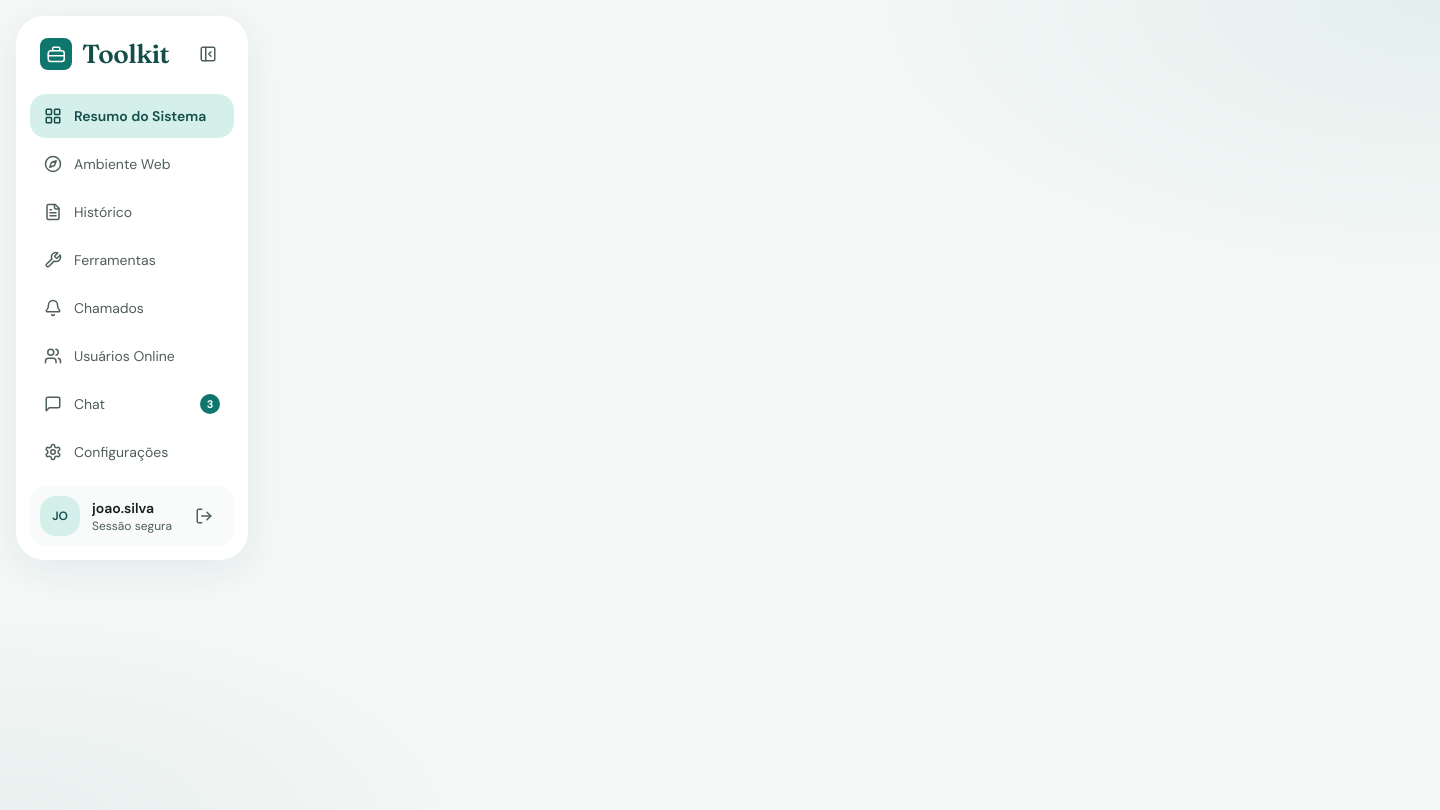
Sidebar collapse › hides labels, keeps accessible names and persists the choice
The image size is (1440, 810).
Later steps or results of the test are not shown.
Expected: the text "Toolkit" is shown, top-left (82, 41), bottom-right (182, 67)
Click the button named "Recolher menu" at (208, 54), box top-left (192, 38), bottom-right (224, 70)
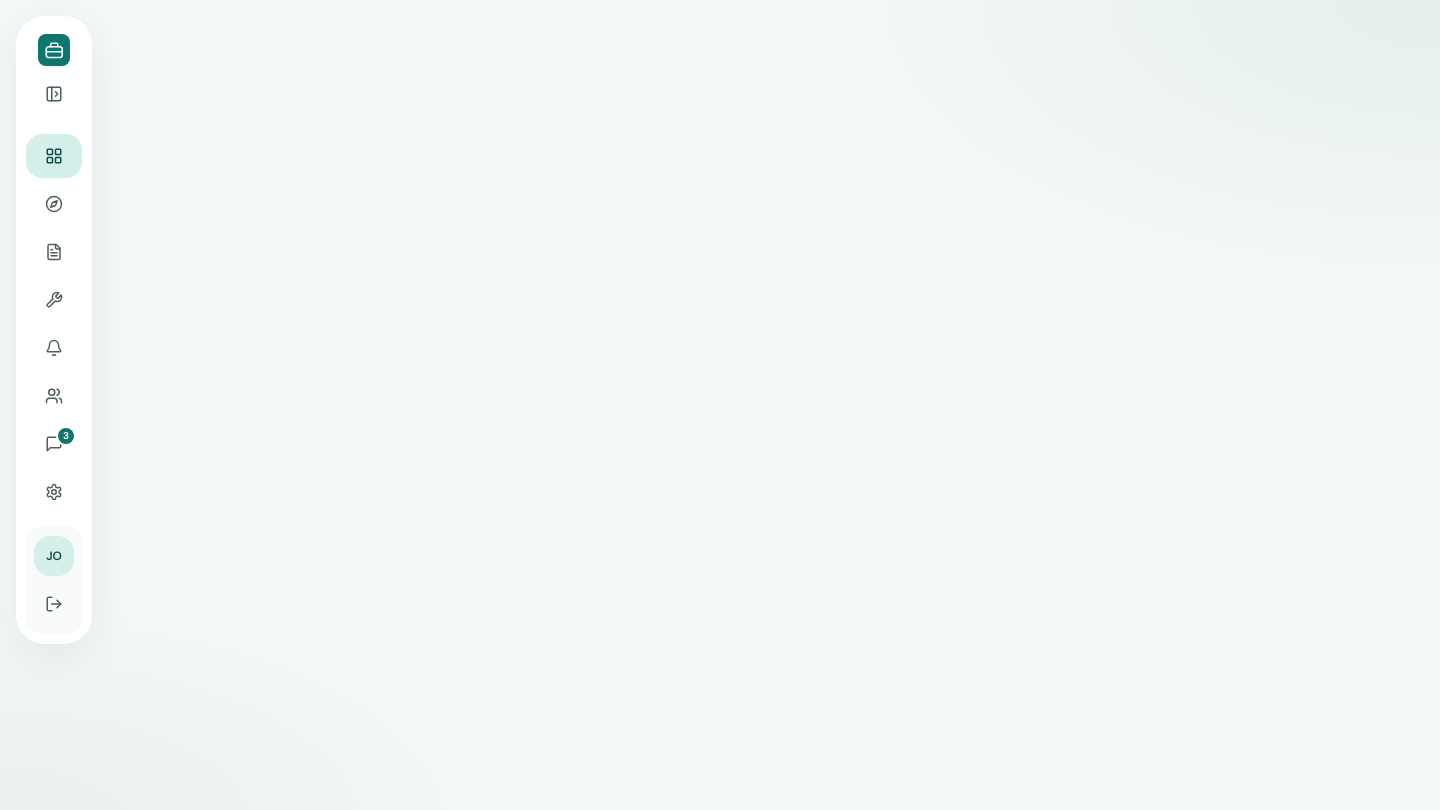
Result: the text "Toolkit" is gone
Result: the text "joao.silva" is gone
